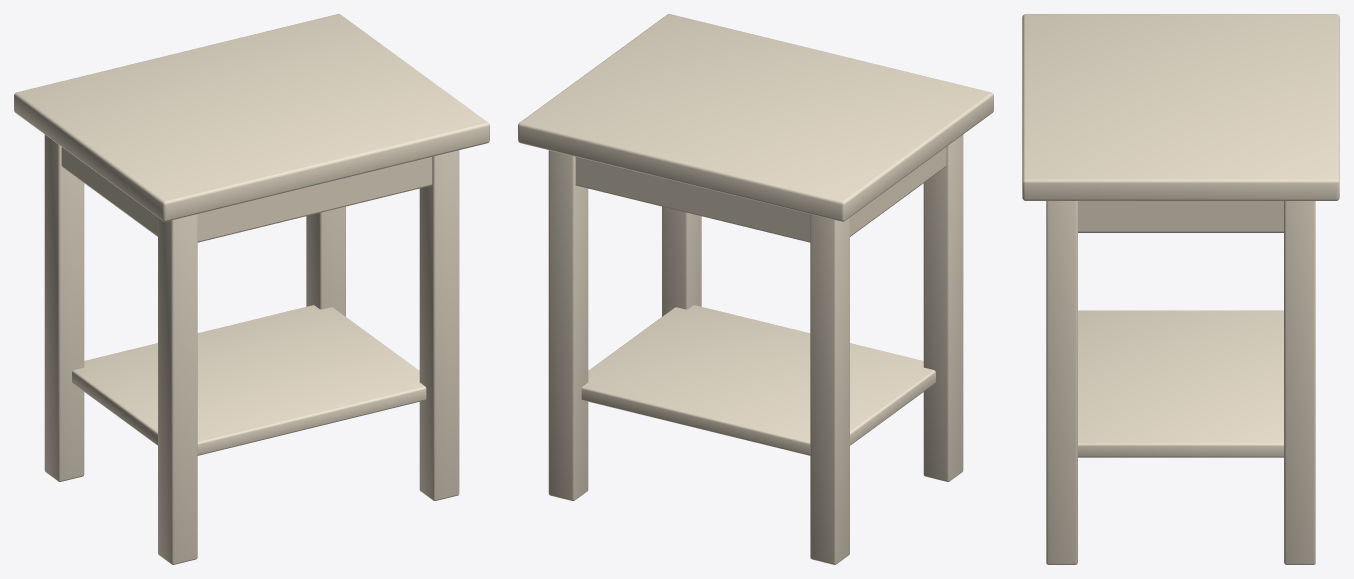
File: sg_nightstand.glb
3 renders of one model, left to right at view 1: azimuth 30°, elevation 25°; view 2: azimuth 150°, elevation 25°; view 3: azimuth 270°, elevation 25°, orthographic. The views are drawn at different scales.
Visible parts, largest first — view 1: top, shelf, leg00, leg10, leg01, apron, leg11; view 2: top, shelf, leg01, leg11, leg00, apron, leg10; view 3: top, shelf, leg10, leg11, apron.
Boxes of the visible parts, x1=… form: top: x1=14, y1=14, x2=489, y2=221; shelf: x1=72, y1=305, x2=426, y2=455; leg00: x1=158, y1=214, x2=197, y2=564; leg10: x1=419, y1=150, x2=459, y2=500; leg01: x1=44, y1=134, x2=84, y2=481; apron: x1=61, y1=147, x2=432, y2=242; leg11: x1=306, y1=206, x2=345, y2=316; top: x1=518, y1=14, x2=993, y2=221; shelf: x1=581, y1=305, x2=935, y2=455; leg01: x1=810, y1=214, x2=849, y2=564; leg11: x1=548, y1=150, x2=588, y2=500; leg00: x1=923, y1=134, x2=963, y2=481; apron: x1=575, y1=147, x2=946, y2=242; leg10: x1=662, y1=206, x2=701, y2=316; top: x1=1022, y1=14, x2=1339, y2=200; shelf: x1=1078, y1=310, x2=1283, y2=457; leg10: x1=1046, y1=201, x2=1077, y2=564; leg11: x1=1284, y1=201, x2=1315, y2=564; apron: x1=1078, y1=201, x2=1283, y2=232.
Size of the model in its own units: 0.5 by 0.55 by 0.4.
